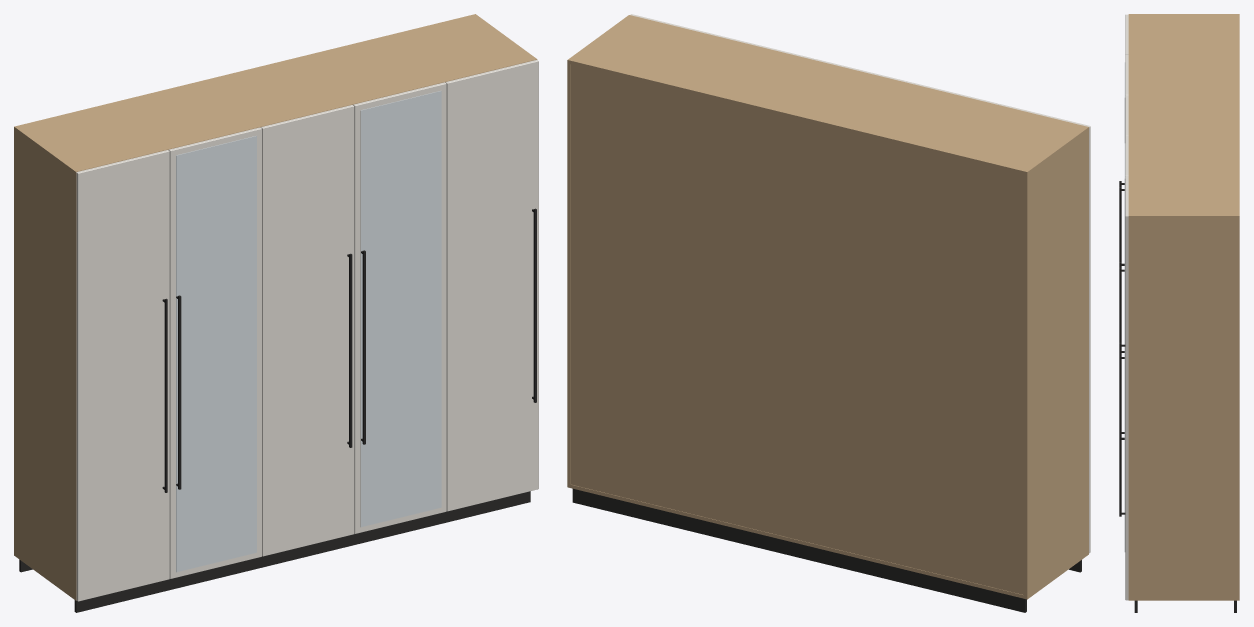
The model's file is 07_szafa_5d_250.glb.
The picture shows the model from 3 angles, left to right: view 1: azimuth 30°, elevation 25°; view 2: azimuth 150°, elevation 25°; view 3: azimuth 270°, elevation 25°; orthographic projection. The views are drawn at different scales.
Visible parts, largest first — view 1: Korpus, Front_drzwi_1, Front_drzwi_3, Front_drzwi_5, Lustro_4, Lustro_2, Front_drzwi_4, Front_drzwi_2, Cokol, Uchwyty; view 2: Korpus, Cokol, Front_drzwi_1; view 3: Korpus, Front_drzwi_5, Uchwyty, Lustro_4.
Boxes of the visible parts, left/top/right/bottom form: Korpus: left=14, top=14, right=537, bottom=600; Front_drzwi_1: left=76, top=150, right=169, bottom=601; Front_drzwi_3: left=261, top=105, right=354, bottom=556; Front_drzwi_5: left=445, top=60, right=538, bottom=511; Lustro_4: left=360, top=91, right=441, bottom=527; Lustro_2: left=176, top=136, right=256, bottom=572; Front_drzwi_4: left=353, top=82, right=446, bottom=533; Front_drzwi_2: left=168, top=127, right=261, bottom=578; Cokol: left=19, top=491, right=530, bottom=612; Uchwyty: left=162, top=208, right=536, bottom=492; Korpus: left=567, top=15, right=1088, bottom=599; Cokol: left=572, top=488, right=1081, bottom=612; Front_drzwi_1: left=998, top=104, right=1090, bottom=553; Korpus: left=1128, top=14, right=1239, bottom=600; Front_drzwi_5: left=1125, top=176, right=1128, bottom=600; Uchwyty: left=1119, top=181, right=1125, bottom=516; Lustro_4: left=1124, top=143, right=1125, bottom=551.
Size of the model in its own units: 2.5 by 2.3 by 0.63.
